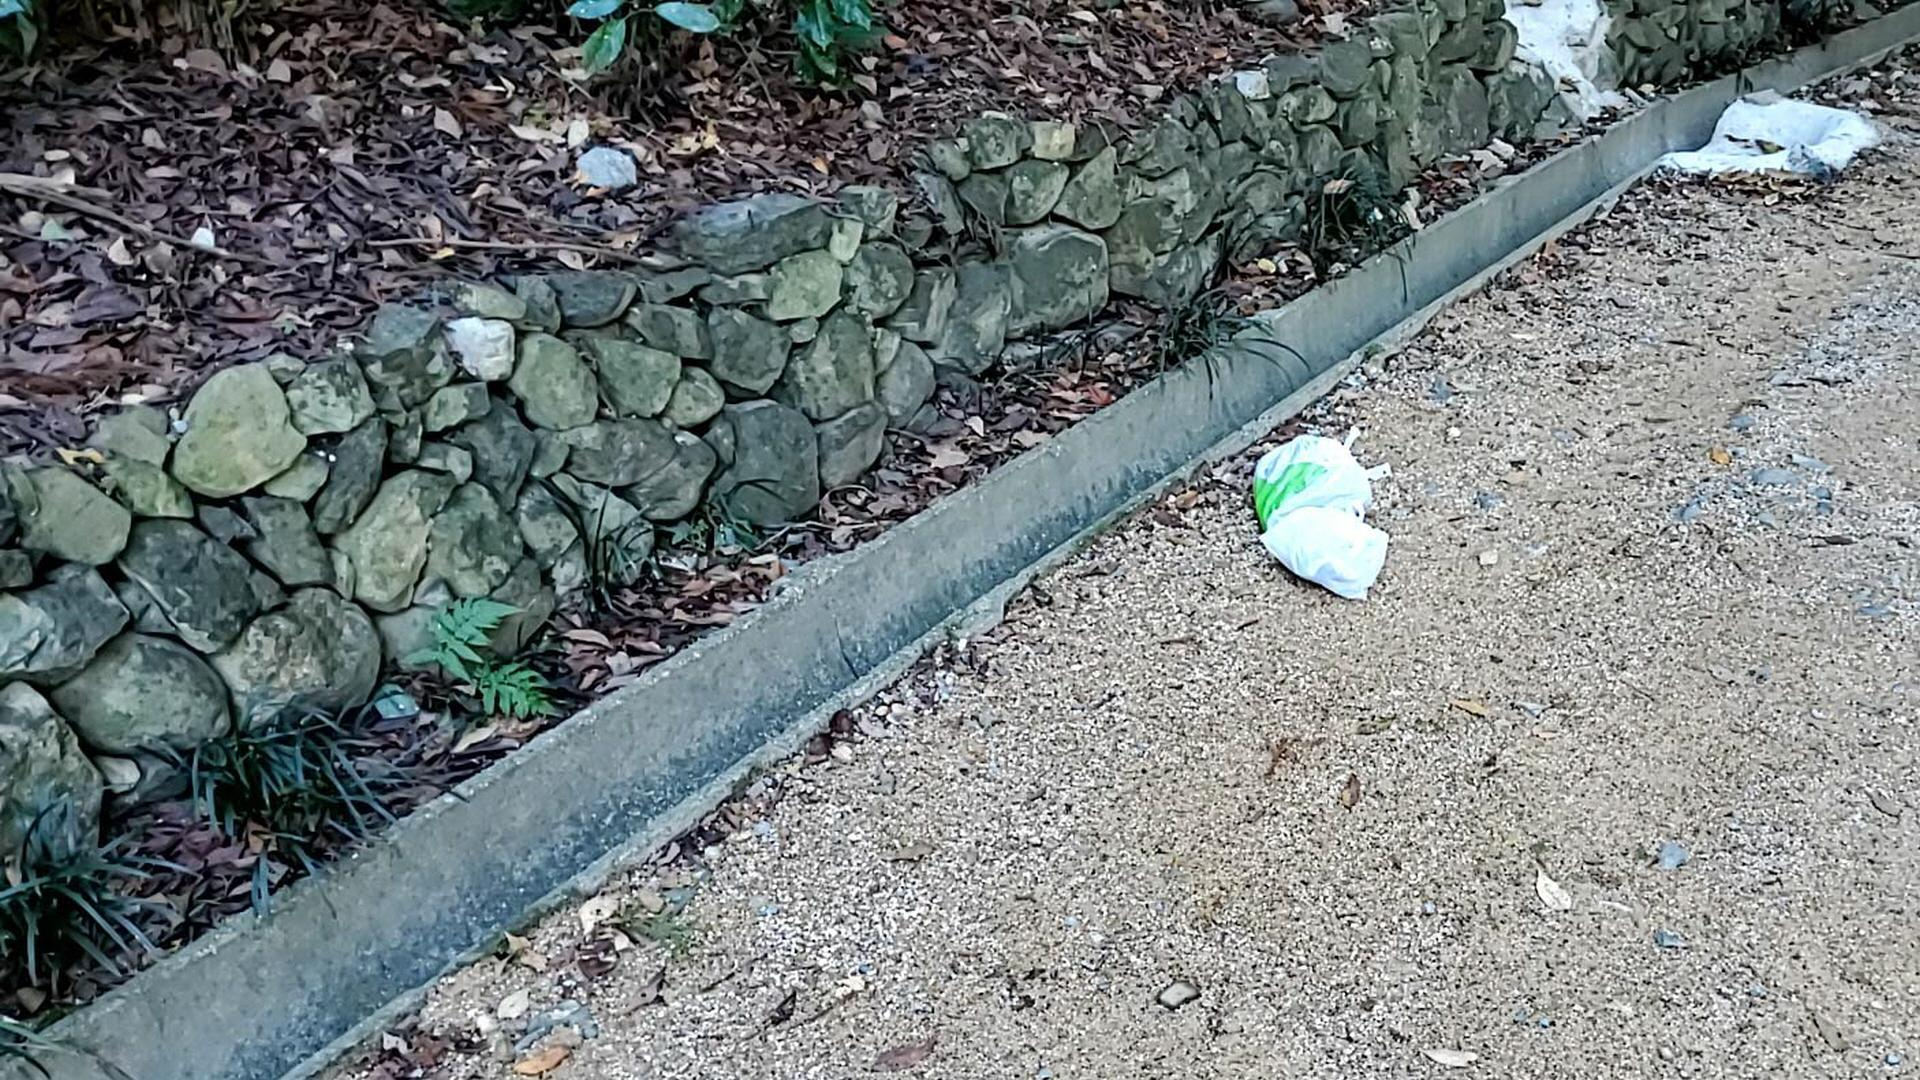white_bag: (1250, 501, 1399, 611), (1242, 422, 1389, 530)
